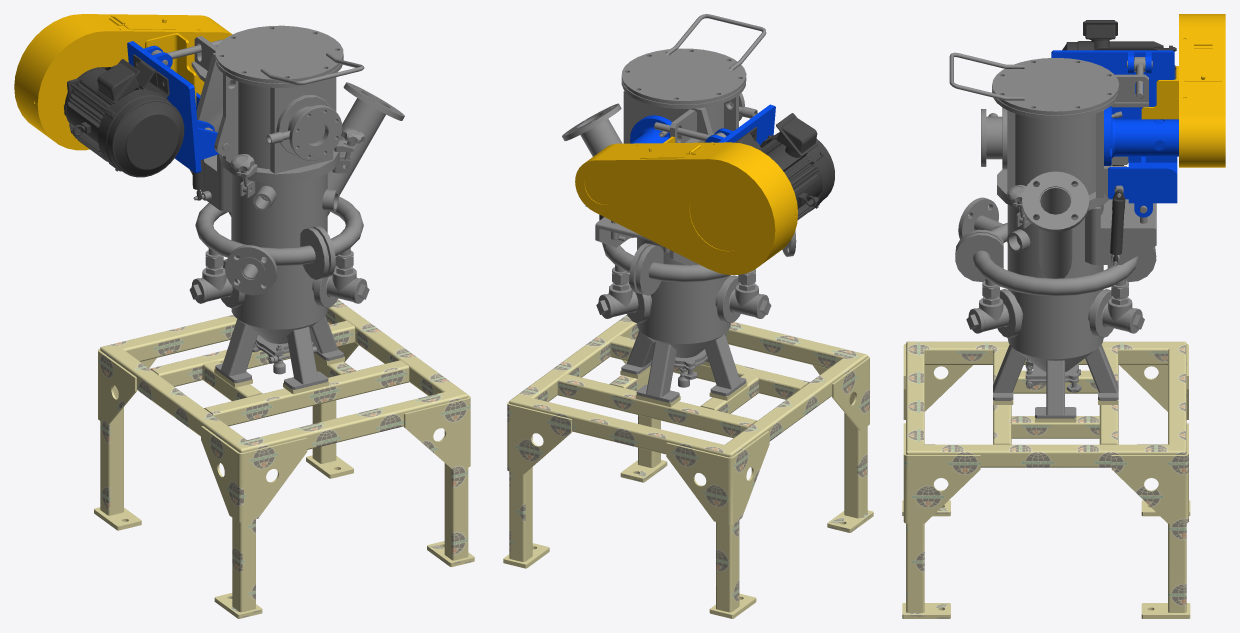
3 views of the same model, side by side, from view 1: azimuth 30°, elevation 25°; view 2: azimuth 150°, elevation 25°; view 3: azimuth 270°, elevation 25° (orthographic). The views are drawn at different scales.
Parts seen in each view (by area): view 1: ノズル1, 角パイプ2.002, B(M6X20), モータ(3．7kW_2P_屋内_三菱\X0\).002, 側面プレート; view 2: 角パイプ2.002, ノズル1, B(M6X20), モータ(3．7kW_2P_屋内_三菱\X0\).002, 側面プレート; view 3: ノズル1, 角パイプ2.002, 側面プレート, B(M6X20), モータ(3．7kW_2P_屋内_三菱\X0\).002.
Part boxes in pixels (x1=…): ノズル1: x1=151, y1=25, x2=404, y2=389; 角パイプ2.002: x1=94, y1=299, x2=474, y2=618; B(M6X20): x1=14, y1=14, x2=232, y2=150; モータ(3．7kW_2P_屋内_三菱\X0\).002: x1=63, y1=54, x2=204, y2=200; 側面プレート: x1=127, y1=41, x2=218, y2=173; 角パイプ2.002: x1=503, y1=315, x2=873, y2=618; ノズル1: x1=562, y1=14, x2=796, y2=402; B(M6X20): x1=575, y1=136, x2=797, y2=274; モータ(3．7kW_2P_屋内_三菱\X0\).002: x1=599, y1=113, x2=834, y2=220; 側面プレート: x1=585, y1=104, x2=775, y2=206; ノズル1: x1=949, y1=52, x2=1156, y2=418; 角パイプ2.002: x1=902, y1=341, x2=1190, y2=618; 側面プレート: x1=1051, y1=50, x2=1178, y2=203; B(M6X20): x1=1141, y1=14, x2=1225, y2=167; モータ(3．7kW_2P_屋内_三菱\X0\).002: x1=1062, y1=20, x2=1176, y2=264.
Bounding box in the file's own units: 0.9177 × 1.46 × 0.8645.
Materials: 5 (1 with a texture image).
